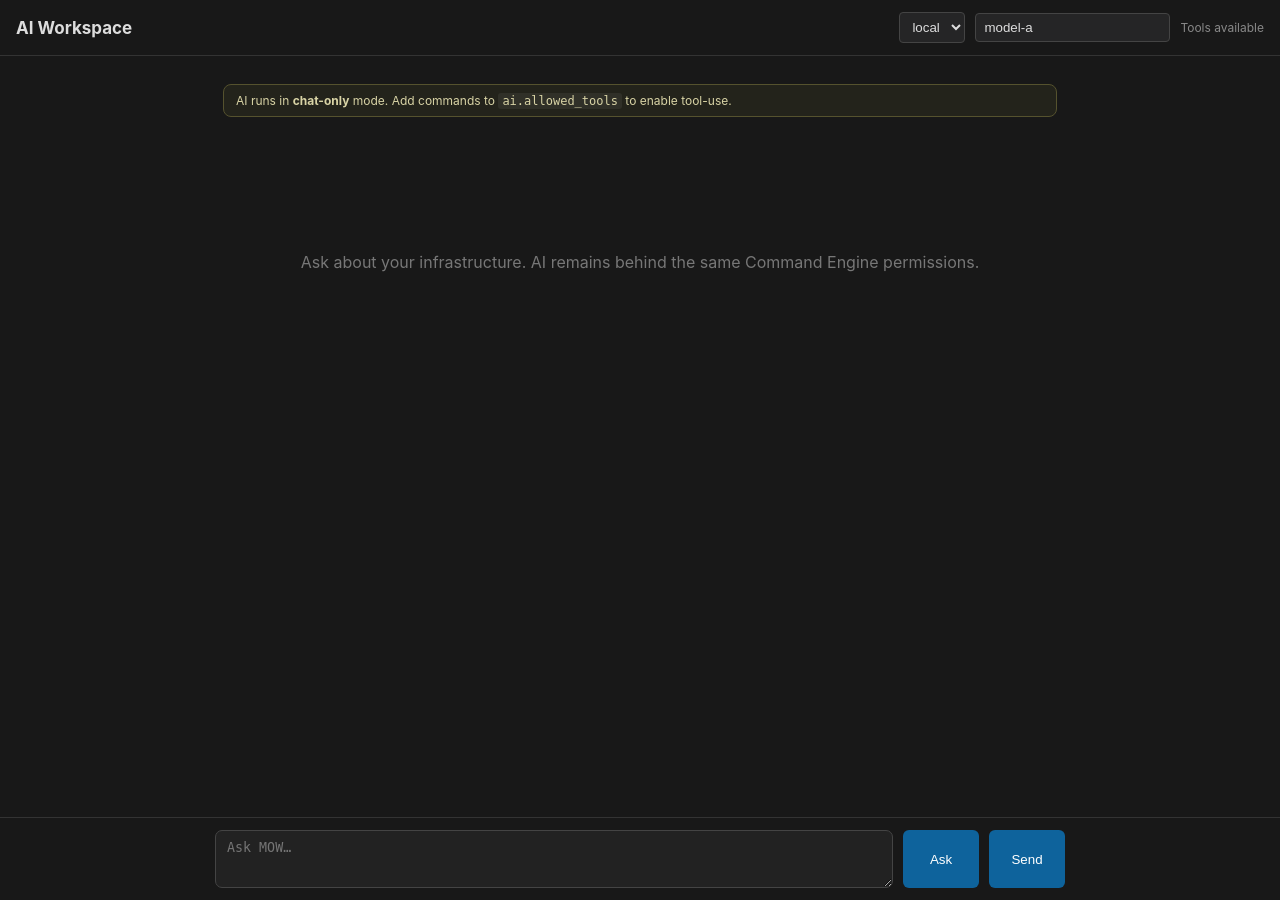
Test case: AIPage › shows error when AIAsk rejects
Check: the field showing "model-a" is shown, box x1=975 y1=13 x2=1170 y2=42
Type "loop" into the text box with placeholder "Ask MOW…" at {"x": 554, "y": 859}, box x1=215 y1=830 x2=893 y2=888
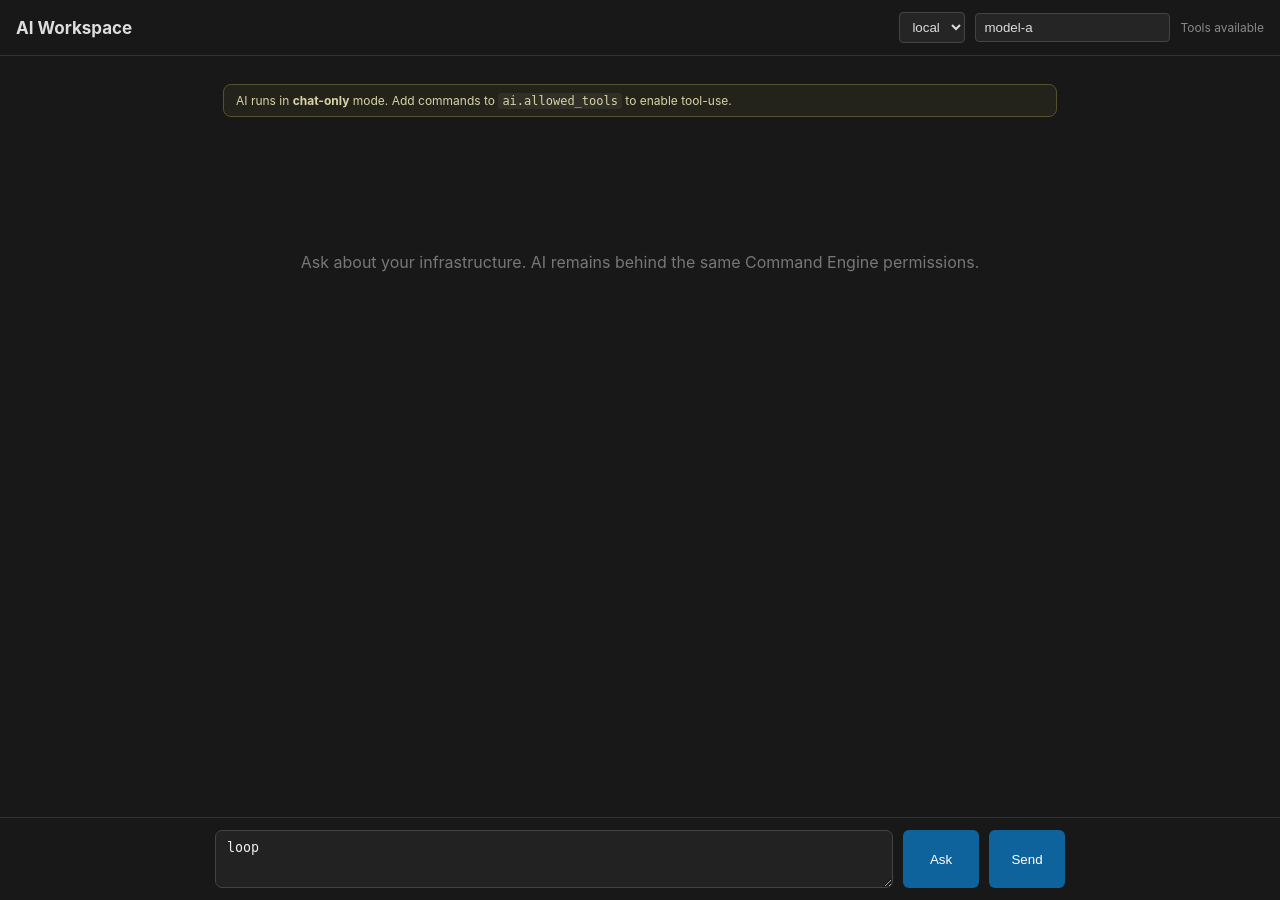
Click the button "Ask" at {"x": 941, "y": 859}, box x1=903 y1=830 x2=979 y2=888
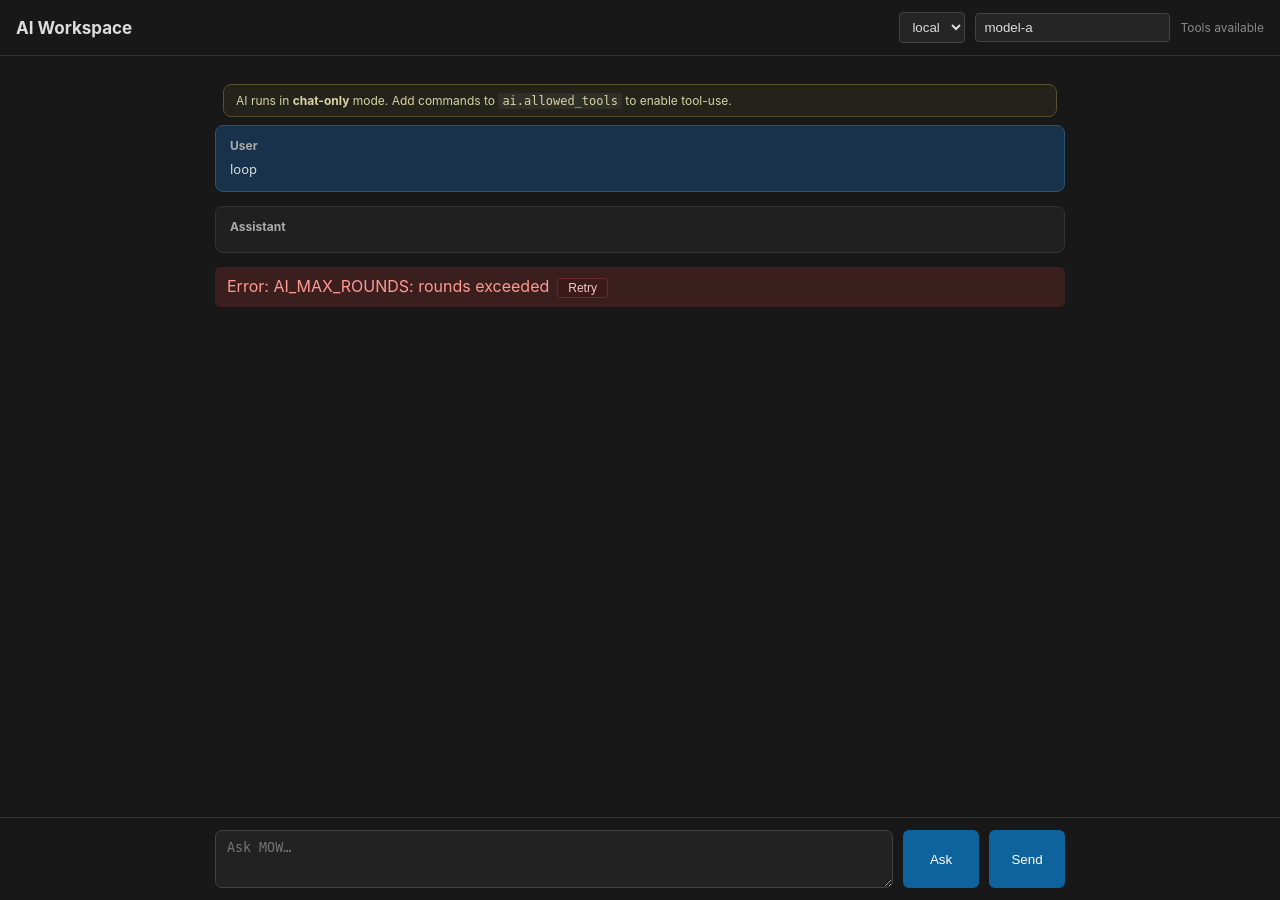
Check: the text "Error: AI_MAX_ROUNDS: rounds exceeded Retry" is shown, box x1=215 y1=267 x2=1065 y2=307
